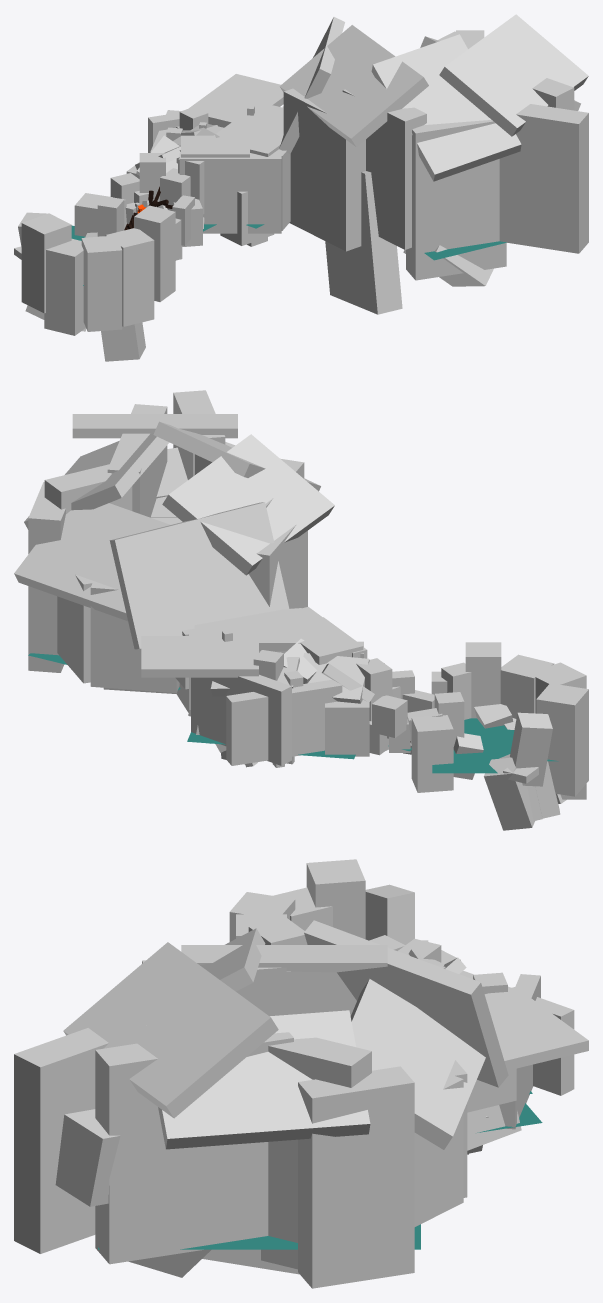
The model's file is ThirdPersonMap.fbx.
3 views of the same model, one above another, from view 1: azimuth 30°, elevation 25°; view 2: azimuth 150°, elevation 25°; view 3: azimuth 270°, elevation 25° (orthographic). The views are drawn at different scales.
Parts seen in each view (by area): view 1: Cube198, Cube190, Cube200, Cube199, Cube194, Cube193, Cube89, Cube171, Cube172, Cube162, Cube169, Cube161 (+22 smaller); view 2: Cube197, Cube194, Cube196, Cube88, Cube140, Cube90, Cube163, Cube182, Cube184, Cube199, Cube195, Cube133 (+29 smaller); view 3: Cube187, Cube184, Cube199, Cube198, Cube195, Cube196, Cube197, Cube185, Cube140, Cube192, Cube183, Cube194 (+20 smaller).
Boxes of the visible parts, x1,y1,x2,y2 form: Cube198: (499, 104, 588, 253); Cube190: (406, 120, 506, 280); Cube200: (283, 88, 365, 251); Cube199: (439, 14, 588, 136); Cube194: (279, 25, 428, 146); Cube193: (371, 34, 521, 181); Cube89: (179, 153, 281, 233); Cube171: (325, 171, 402, 314); Cube172: (342, 89, 426, 249); Cube162: (81, 235, 122, 331); Cube169: (44, 238, 85, 335); Cube161: (105, 228, 154, 326); Cube197: (109, 502, 289, 649); Cube194: (162, 434, 334, 575); Cube196: (14, 503, 170, 621); Cube88: (226, 679, 342, 765); Cube140: (141, 636, 258, 677); Cube90: (191, 674, 291, 765); Cube163: (536, 683, 588, 796); Cube182: (90, 582, 179, 692); Cube184: (28, 482, 65, 672); Cube199: (72, 414, 237, 438); Cube195: (24, 433, 169, 529); Cube133: (194, 609, 312, 651); Cube187: (95, 1032, 293, 1264); Cube184: (298, 1066, 414, 1288); Cube199: (63, 942, 278, 1118); Cube198: (14, 1028, 108, 1253); Cube195: (158, 1010, 370, 1149); Cube196: (350, 979, 485, 1149); Cube197: (304, 920, 508, 1087); Cube185: (261, 1037, 371, 1269); Cube140: (484, 987, 588, 1070); Cube192: (55, 1109, 120, 1206); Cube183: (414, 1076, 463, 1226); Cube194: (181, 945, 387, 972).
Size of what is drawn, in the model's own units: 43585 by 30057 by 21109.
